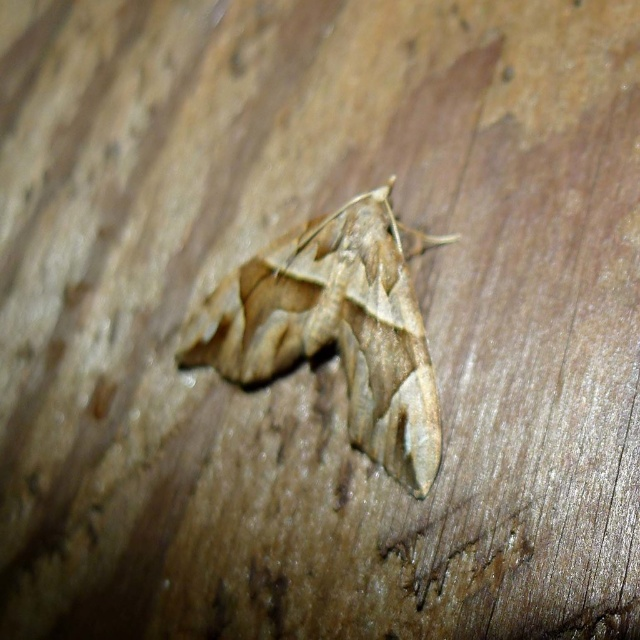Moths and butterflies: (170, 172, 467, 501)
